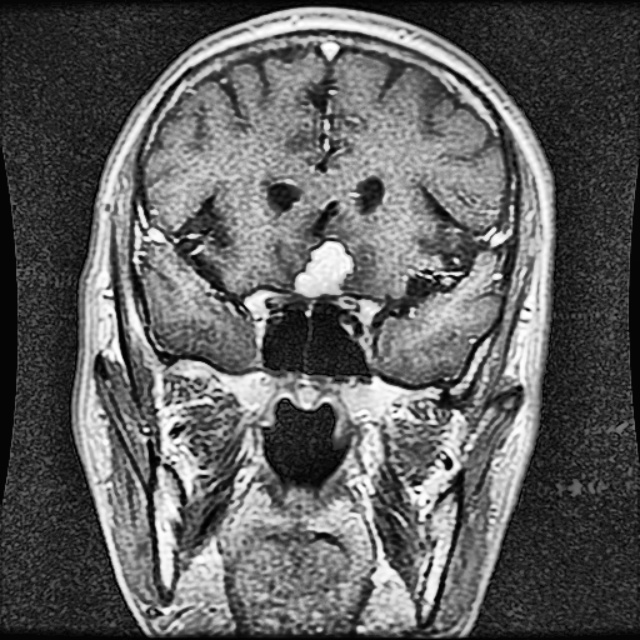Glioma: (295, 239, 353, 295)
